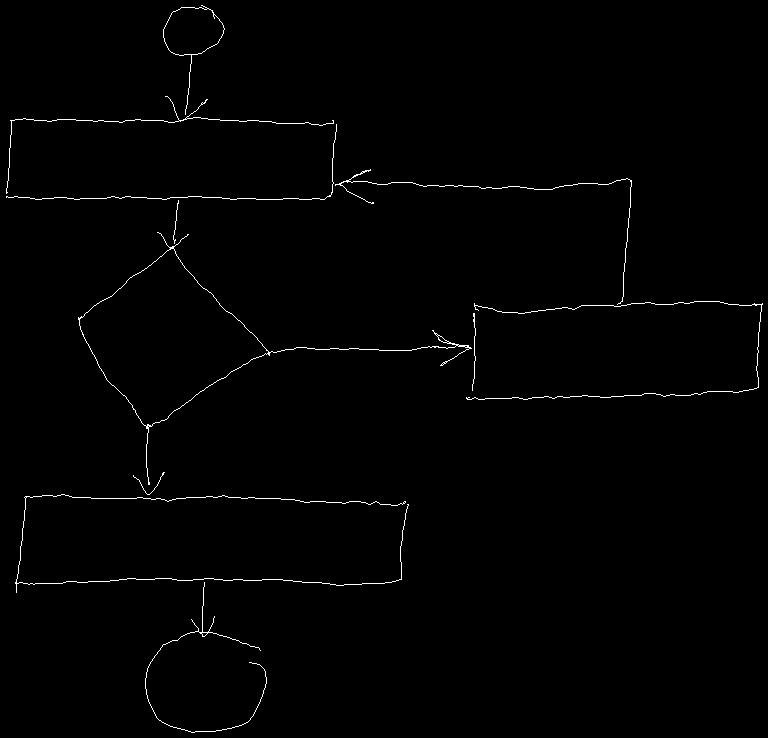arrow: (335, 169, 631, 304), (266, 330, 471, 365), (165, 54, 207, 121), (133, 424, 164, 494), (157, 200, 188, 248), (191, 582, 214, 636)
connection: (145, 630, 266, 732), (163, 5, 224, 55)
decision: (78, 246, 269, 428)
process: (15, 494, 408, 592), (466, 301, 762, 399), (6, 117, 336, 199)
